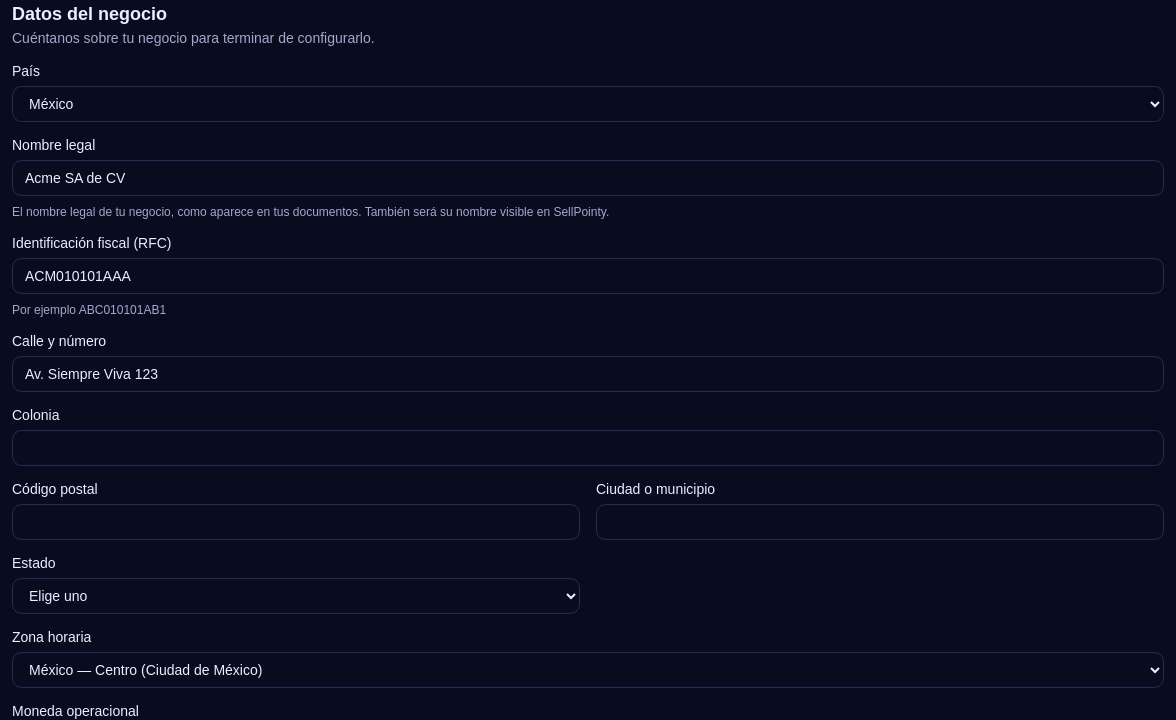
Test: StepBusiness — zonas horarias curadas por país (decisión de Carlos, 2026-08-16) › país de una sola zona (CR): la ofrece sola y preseleccionada
Select "Costa Rica" in the dropdown labelled "País" at (588, 104), box [12,86,1164,122]
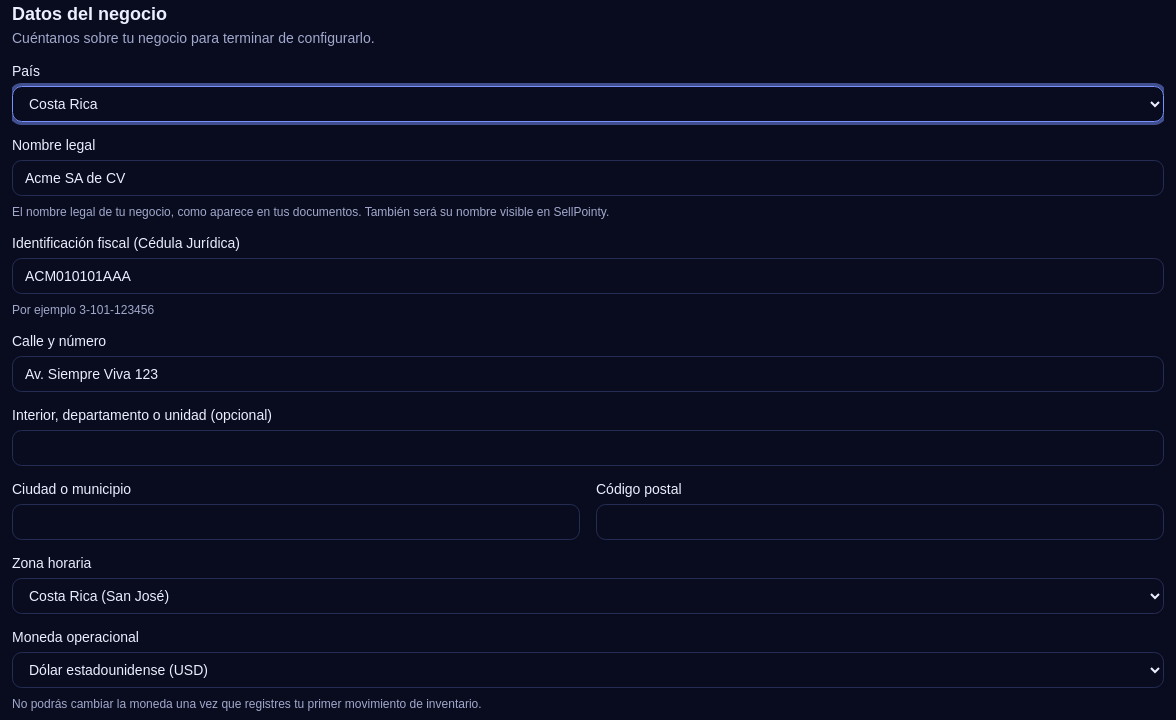
Now the dropdown labelled "Zona horaria" shows "Costa Rica (San José)", box [12,578,1164,614]
